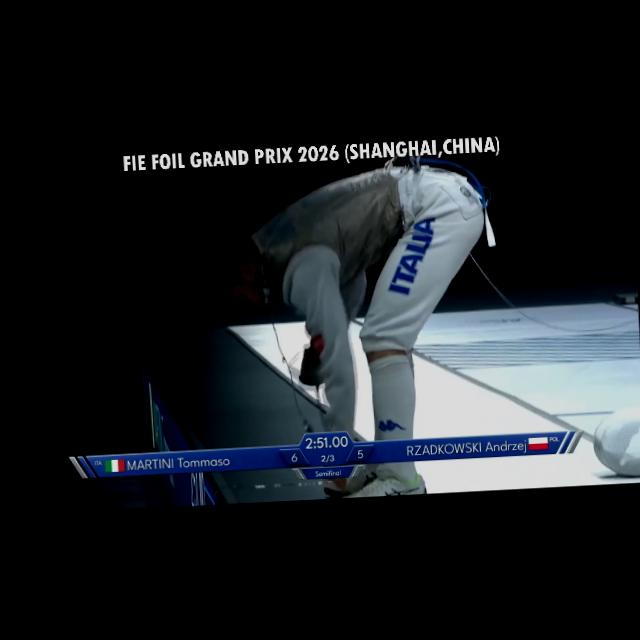blade: (296, 348, 331, 434)
